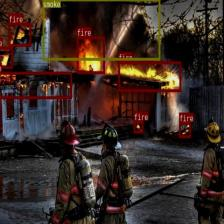fire: (0, 71, 72, 99), (118, 61, 181, 92), (76, 36, 105, 73), (8, 23, 31, 46), (0, 46, 13, 68), (179, 122, 190, 137), (133, 120, 143, 132)
smoke: (42, 0, 160, 60)
